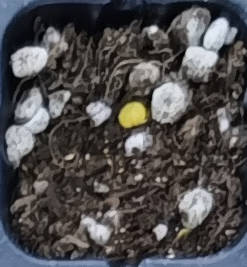pepper seed: (42, 35, 192, 165)
